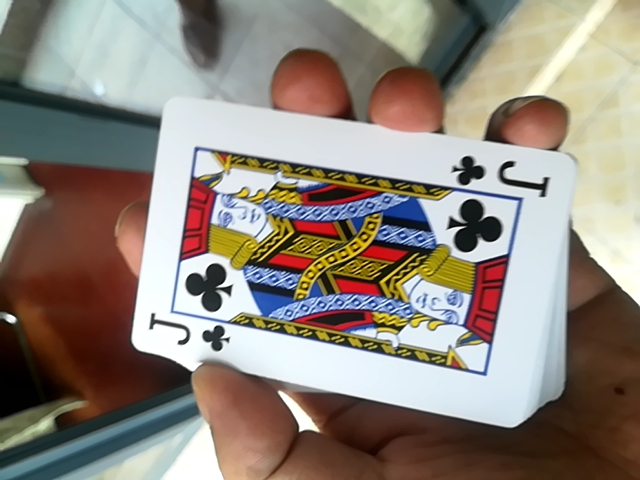mh j: (125, 108, 576, 430)
